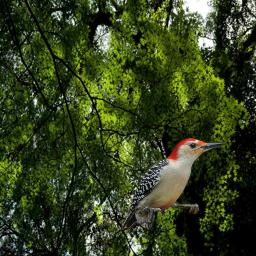Woodpecker: (121, 138, 225, 230)
